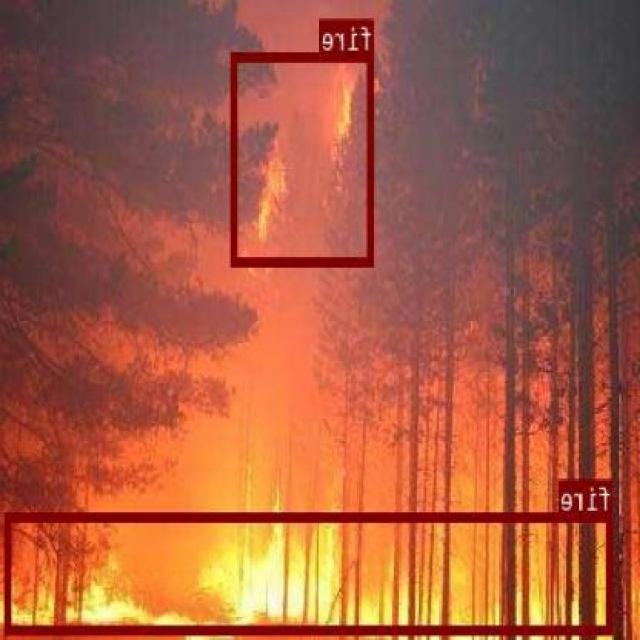Fire: (7, 512, 613, 634), (232, 51, 376, 264)
